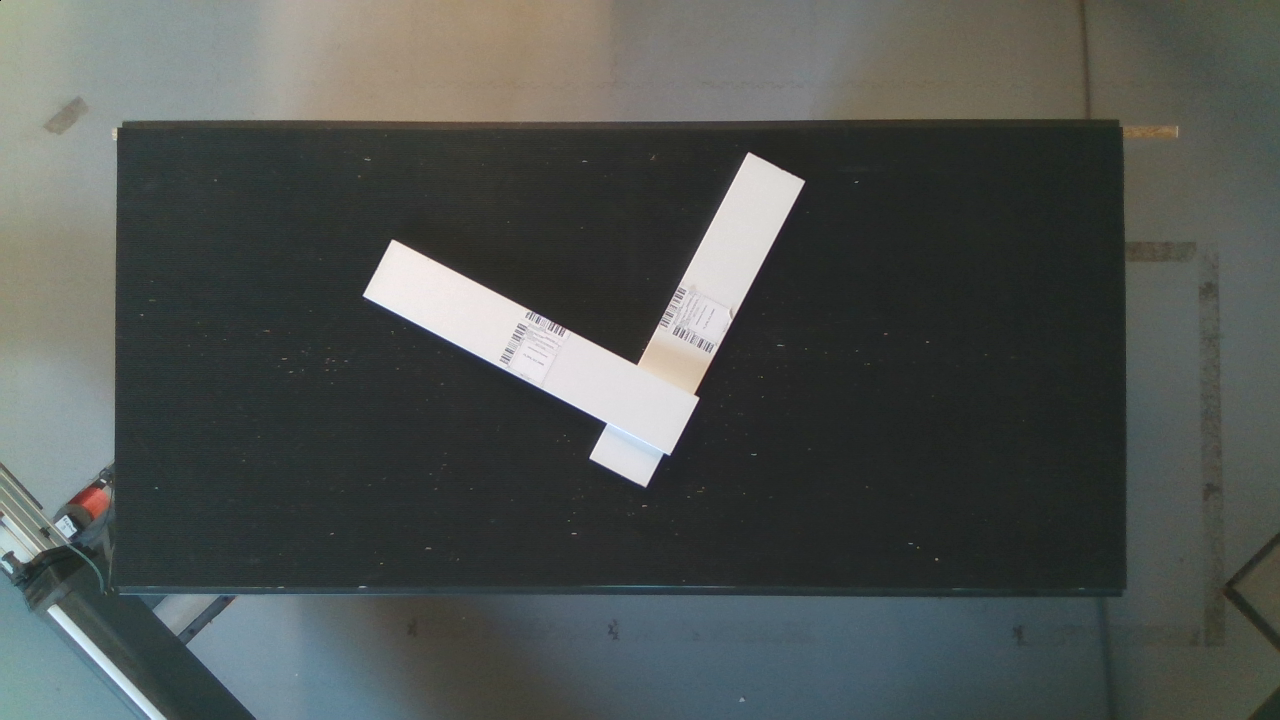barcode: (651, 271, 745, 361), (493, 294, 575, 394)
part1: (585, 139, 815, 495), (361, 234, 710, 455)
